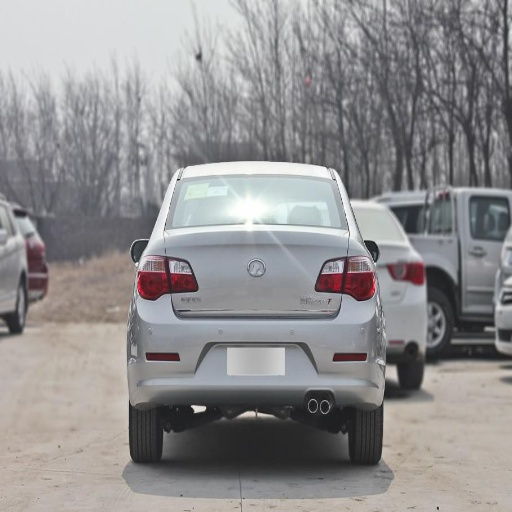back_bumper: (131, 294, 387, 406)
trunk: (152, 226, 348, 343)
